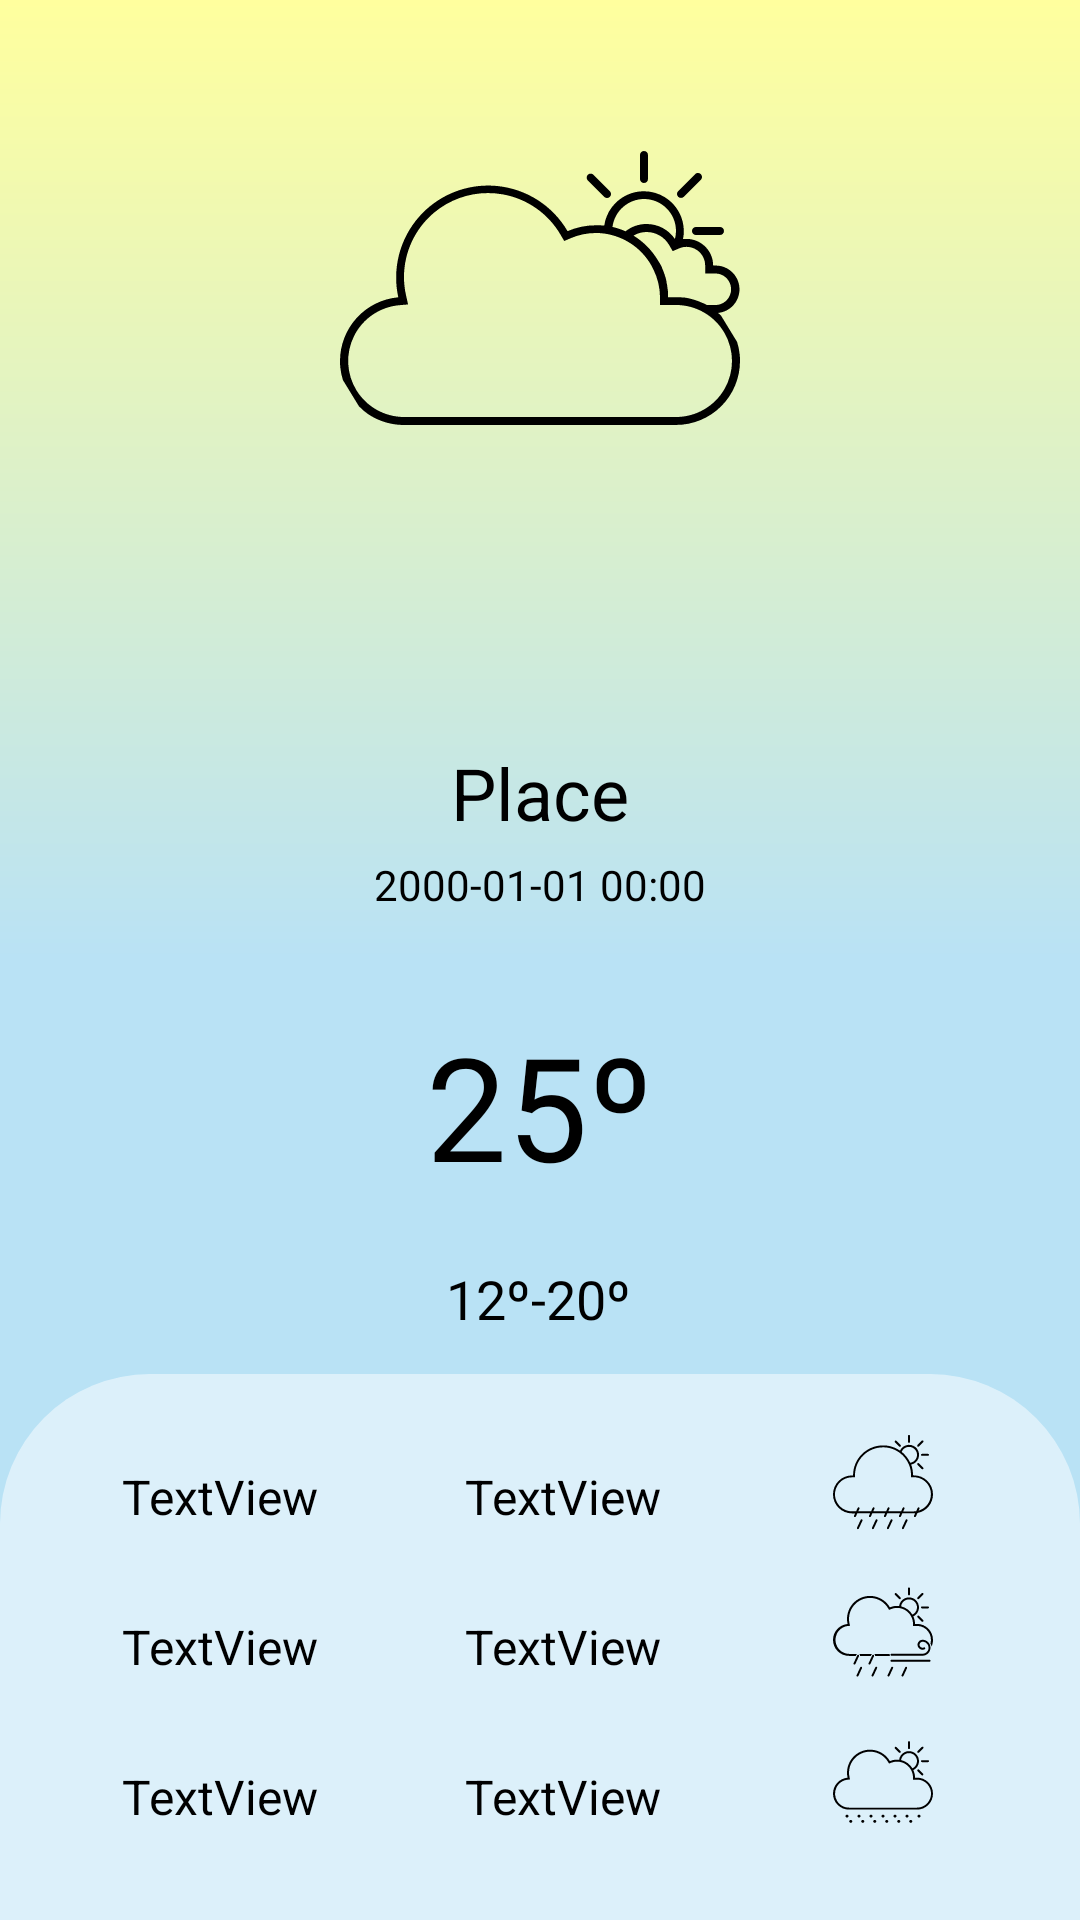

Where icons sit on this 1080*1920 app screen, as (x1, y1, x2, y2):
rain: (833, 1435, 933, 1529)
rain windy: (833, 1587, 933, 1677)
snow: (833, 1741, 933, 1823)
